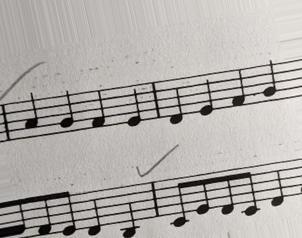A: (20, 92, 43, 139)
D: (268, 157, 288, 211), (167, 74, 186, 127), (82, 190, 103, 236)
E: (123, 82, 145, 131), (196, 72, 216, 119)
F: (88, 87, 110, 132), (228, 69, 248, 113)
G: (56, 87, 76, 135), (258, 56, 278, 103)
